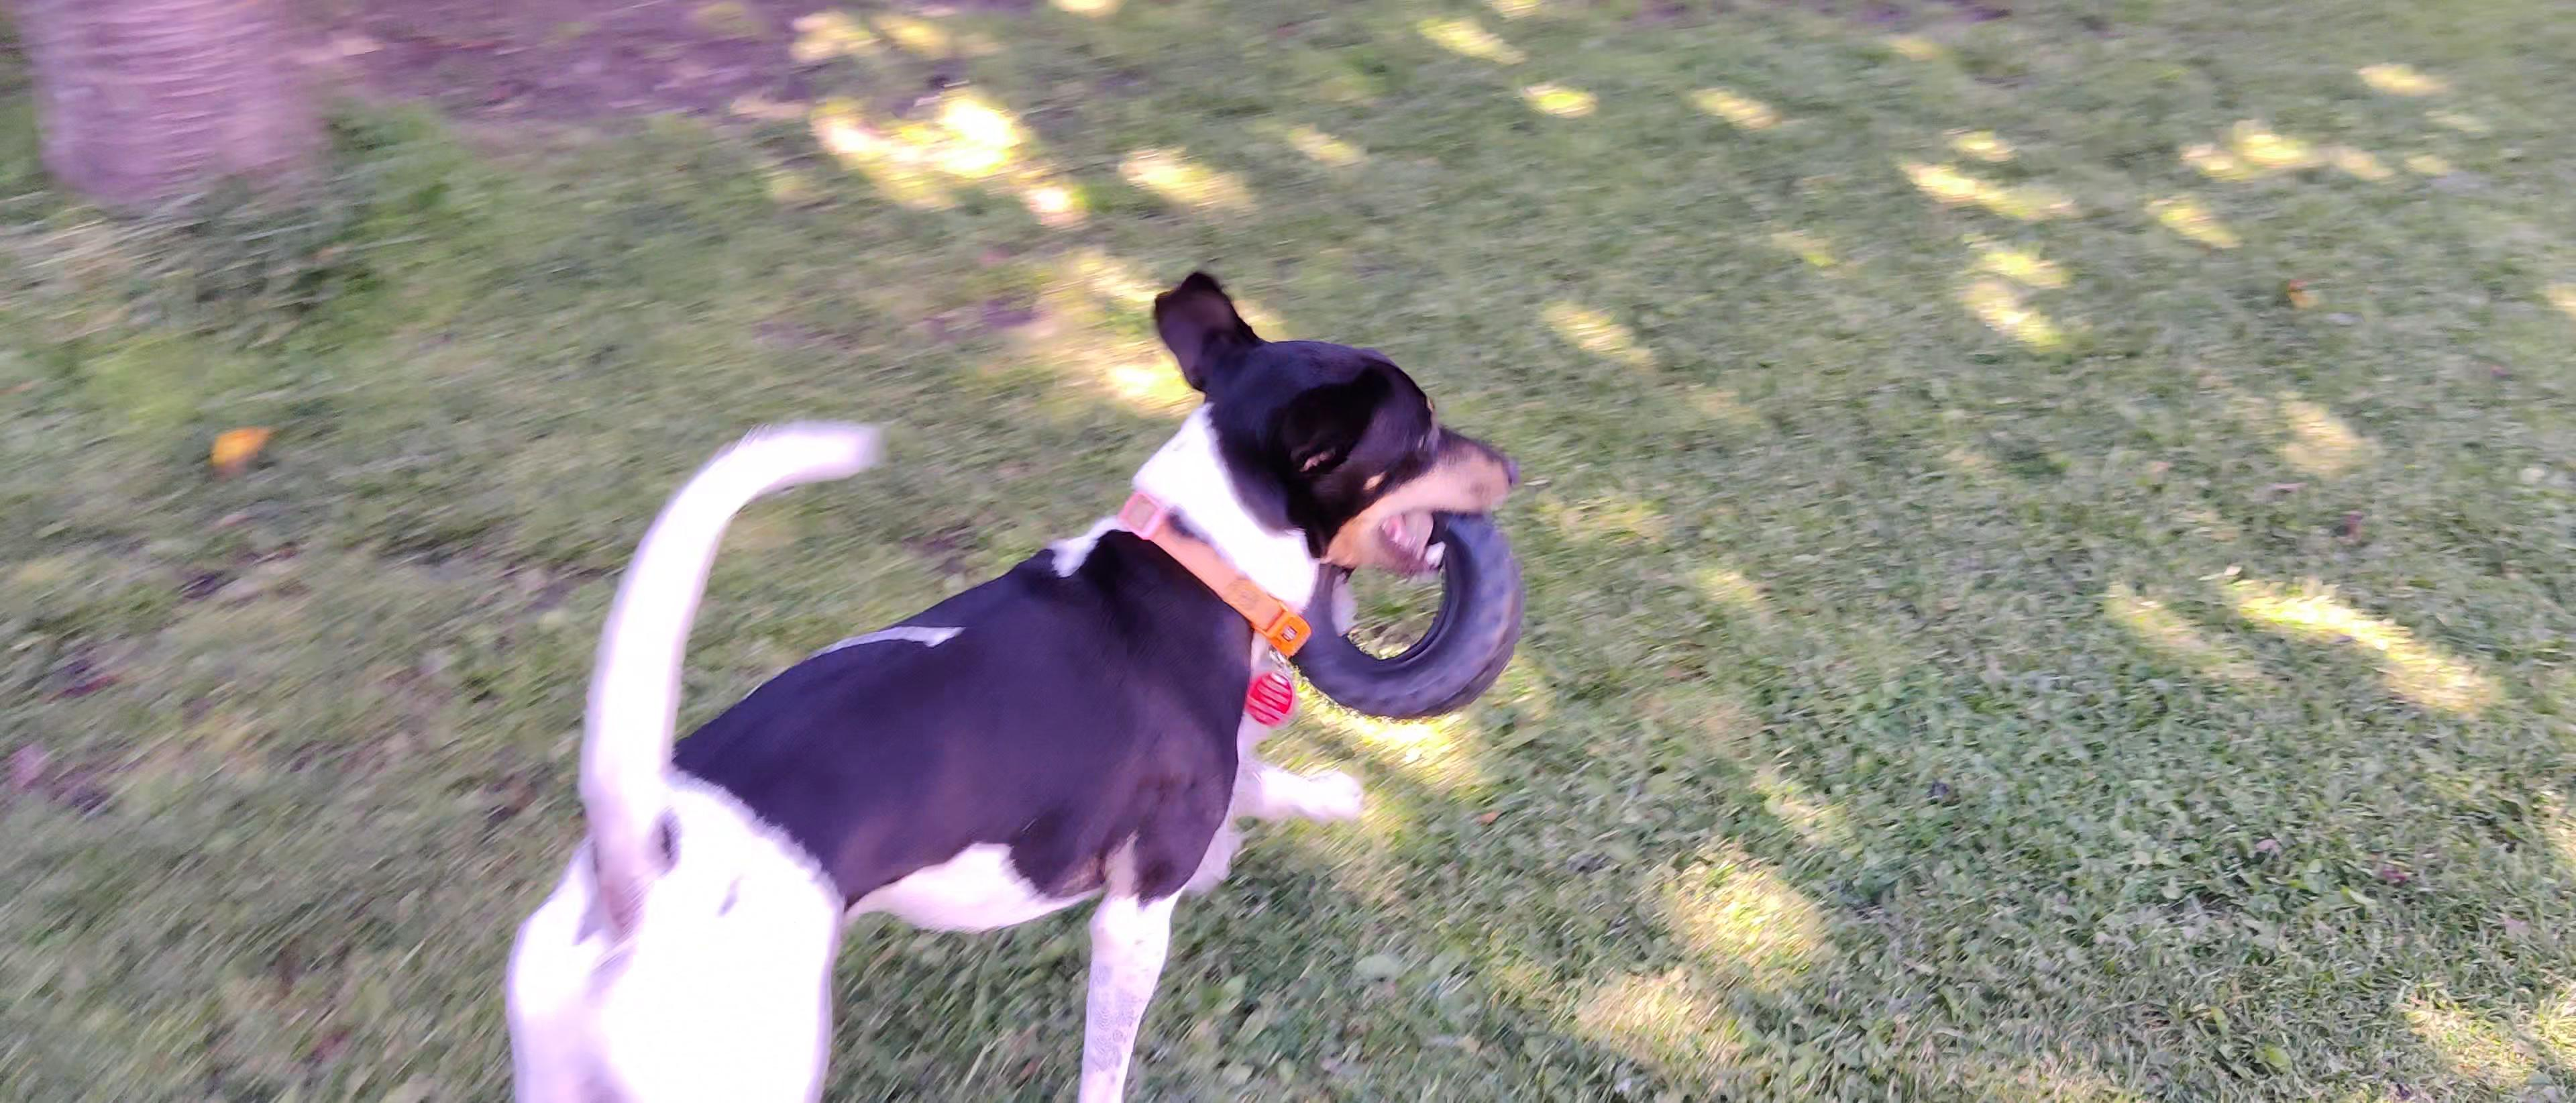Dog: (498, 260, 1526, 1103)
